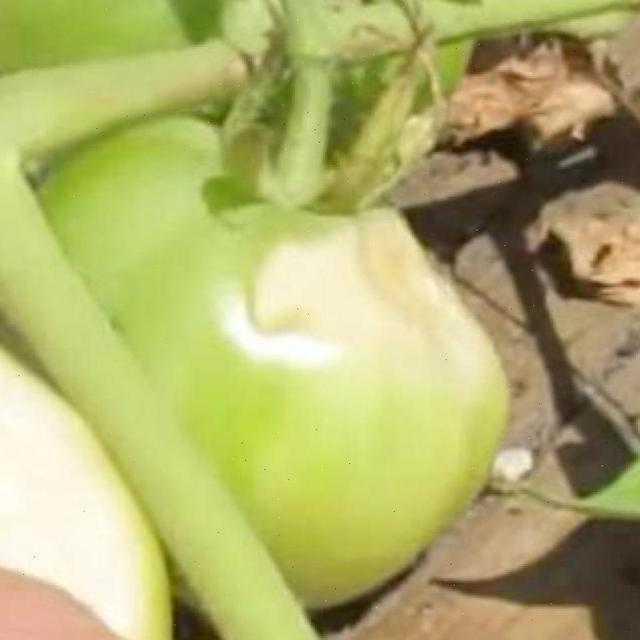Sunscald Fruit: (159, 132, 342, 262)
